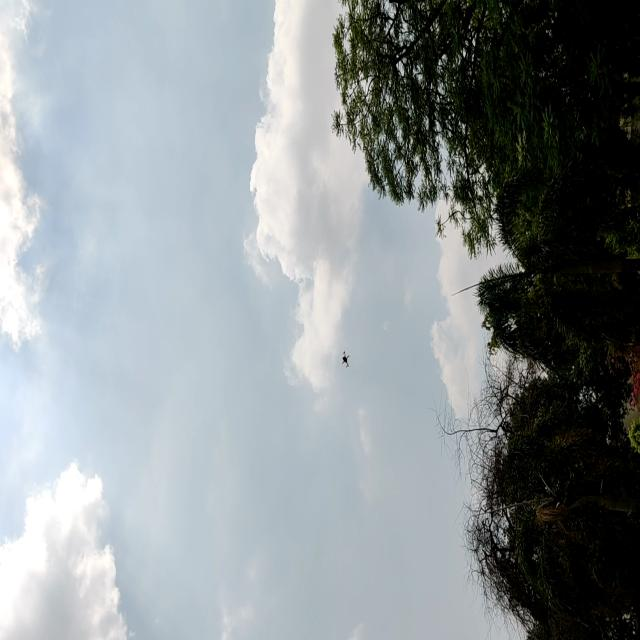drone: (338, 344, 352, 374)
